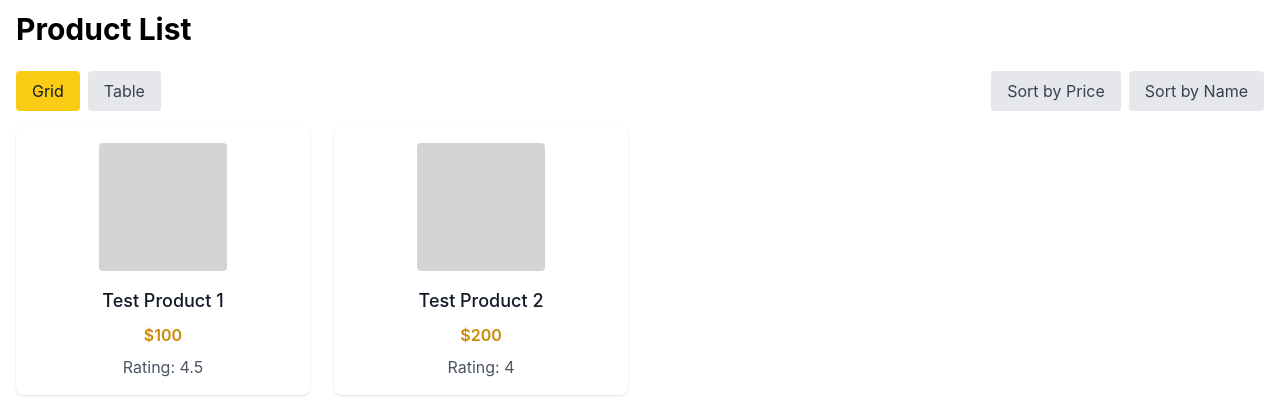
Test case: ProductList Component › switches between grid and table views
This screenshot has width=1281, height=413.
Click the button "Table". click: (124, 91)
box: [88,71,161,111]
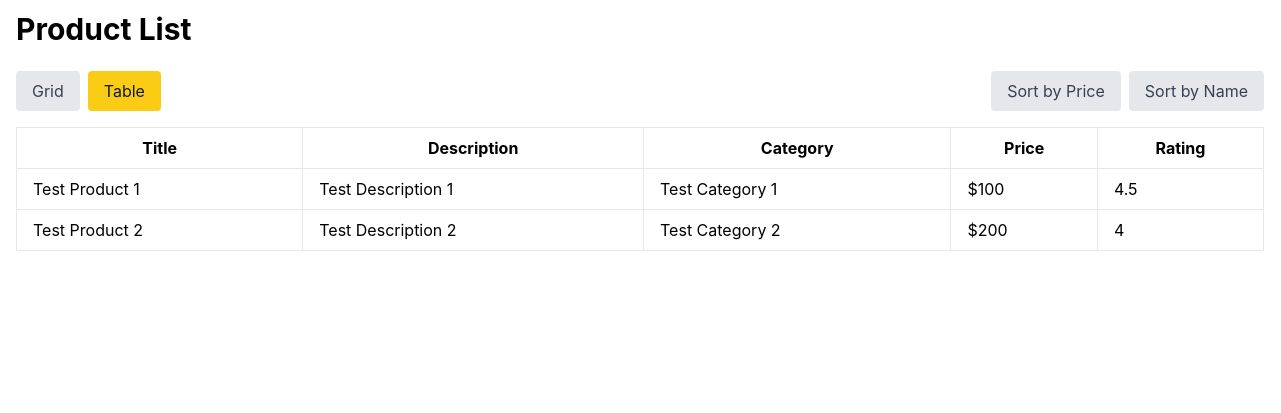
Result: the column heading "Description" is shown at [303,128,644,168]
Result: the column heading "Category" is shown at [644,128,951,168]
